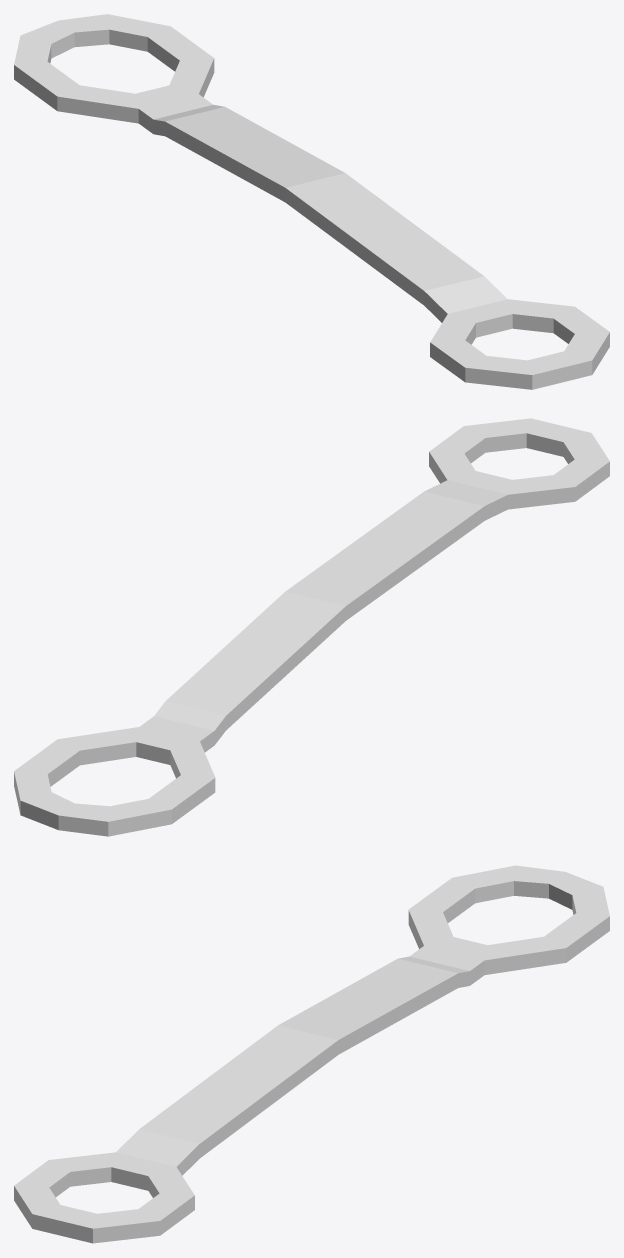
Rendered from Wrench_01.fbx.
3 renders of one model, top to bottom at view 1: azimuth 30°, elevation 25°; view 2: azimuth 150°, elevation 25°; view 3: azimuth 330°, elevation 25°, orthographic.
Parts seen in each view (by area): view 1: Wrench_01; view 2: Wrench_01; view 3: Wrench_01.
Part boxes in pixels (bbox=[...]): Wrench_01: bbox=[14, 14, 609, 389]; Wrench_01: bbox=[14, 418, 609, 836]; Wrench_01: bbox=[14, 865, 609, 1243].
Size of the model in its own units: 7.25 by 1.88 by 40.19.
